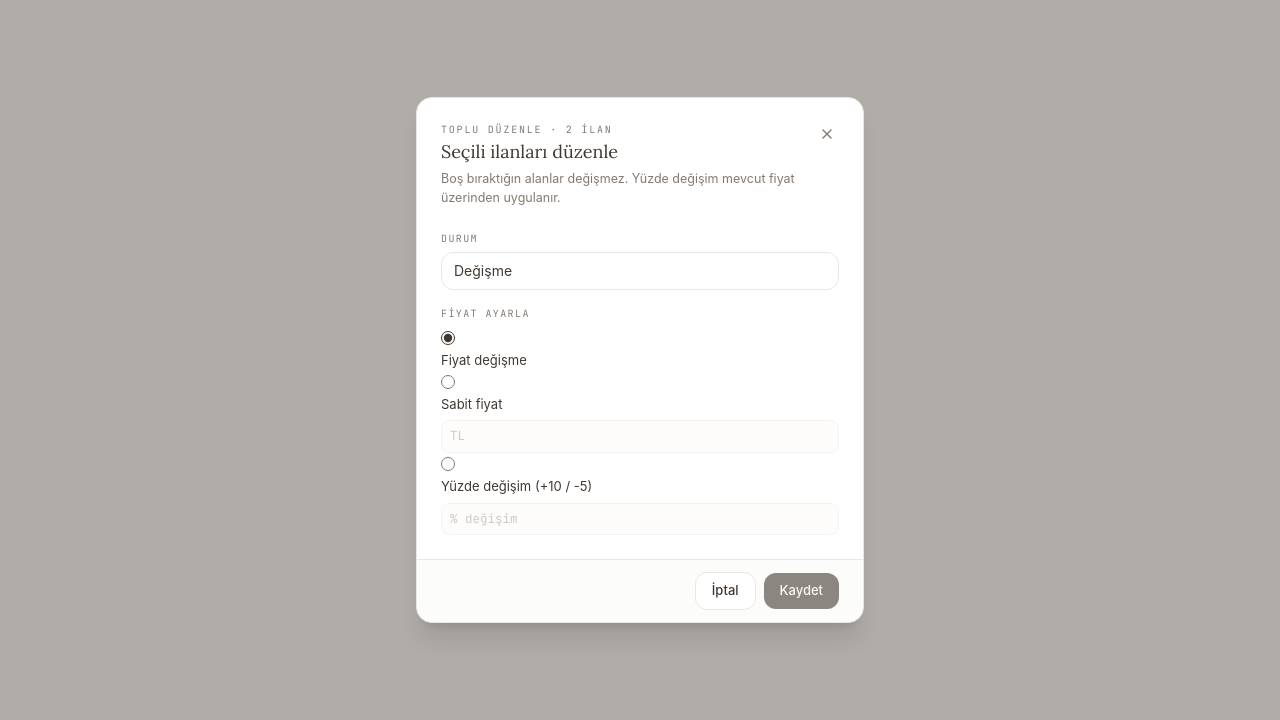
Scenario: BulkEditListingModal › enables submit when status is changed
Select "Pasif" in the dropdown with test id "bulk-edit-status" at {"x": 640, "y": 271}, box [441, 252, 839, 290]
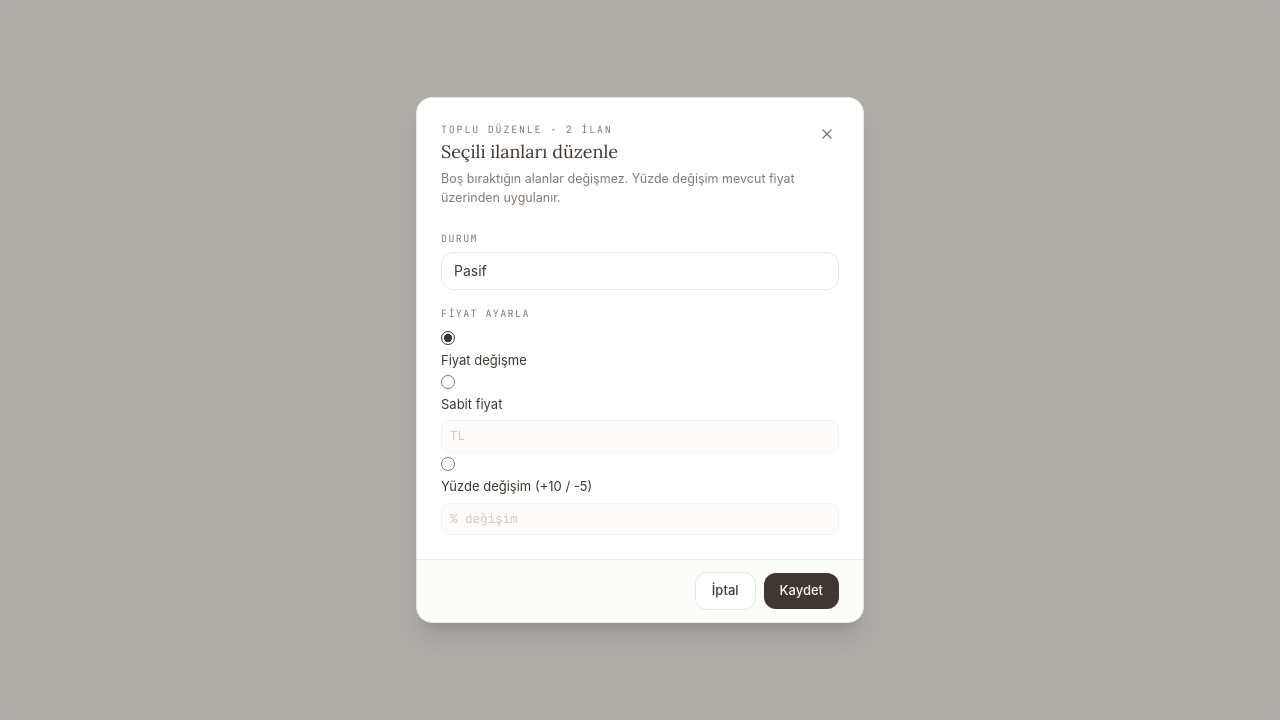
Expected: the button with test id "bulk-edit-submit" is enabled, [764, 573, 839, 609]
